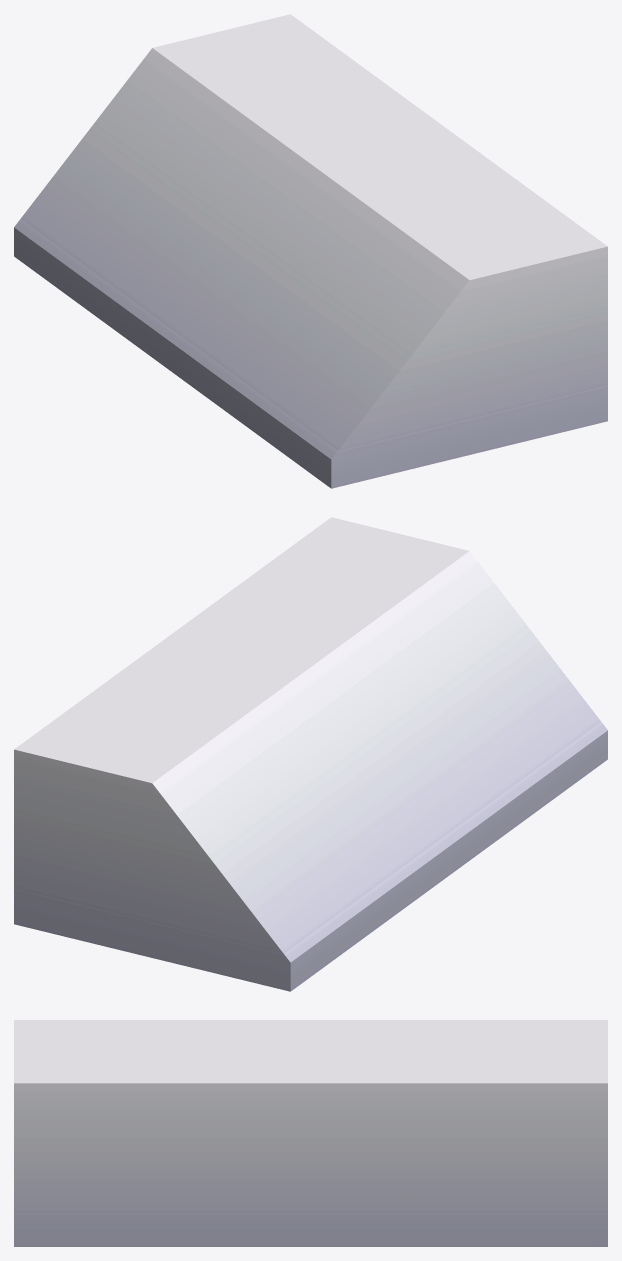
File: none-lq-brick-slope-2x4.glb
3 renders of one model, top to bottom at view 1: azimuth 30°, elevation 25°; view 2: azimuth 150°, elevation 25°; view 3: azimuth 270°, elevation 25°, orthographic. The views are drawn at different scales.
Visible parts, largest first — view 1: none-lq-brick-slope-2x4; view 2: none-lq-brick-slope-2x4; view 3: none-lq-brick-slope-2x4.
Boxes of the visible parts, box(x1,y1,x2,y2) form: none-lq-brick-slope-2x4: box(14, 14, 607, 488); none-lq-brick-slope-2x4: box(14, 517, 607, 991); none-lq-brick-slope-2x4: box(14, 1020, 607, 1246).
Bounding box in the file's own units: 0.159 × 0.096 × 0.316.
1 material, 1 textured.
